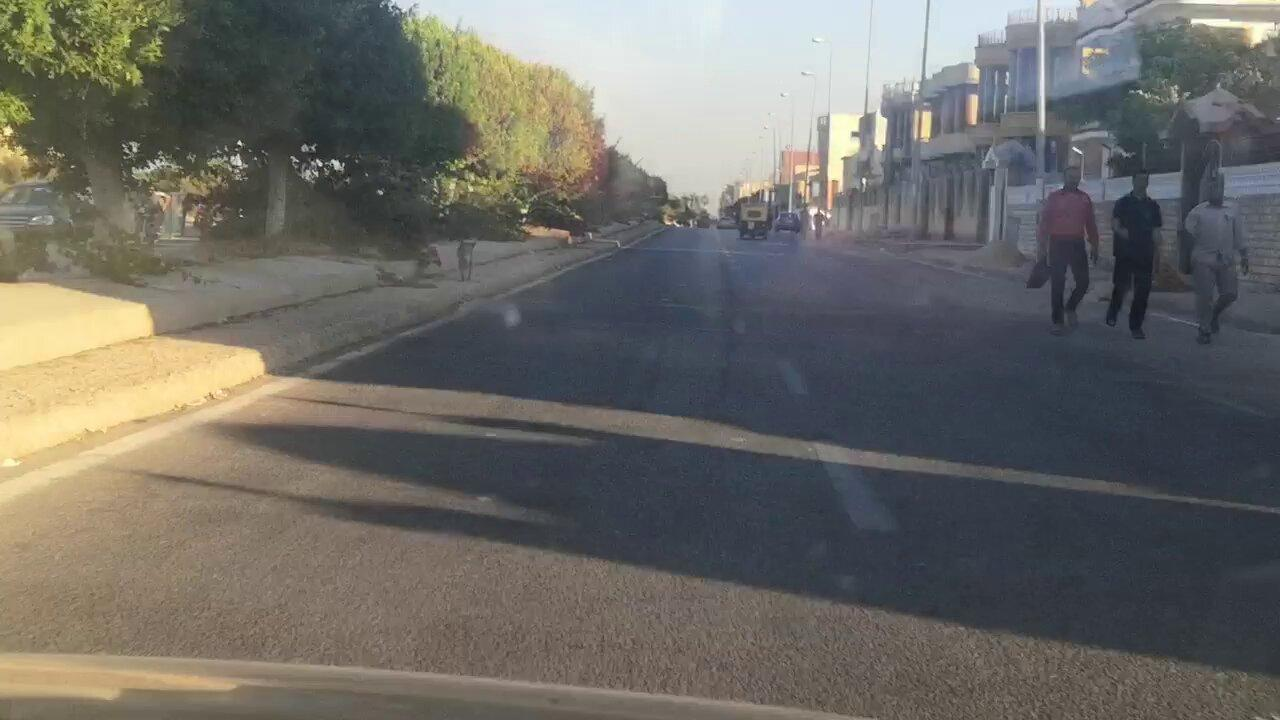Bump: (472, 287, 1112, 303)
